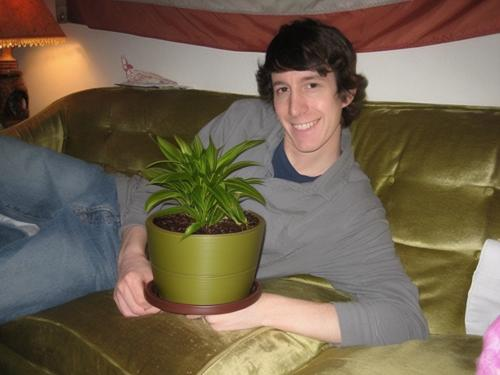person: (2, 18, 431, 350)
person/hand: (171, 278, 254, 333), (112, 263, 169, 319)
person/head: (256, 19, 366, 154)
pottedplant: (143, 135, 265, 314)
sofa: (3, 88, 500, 375)
